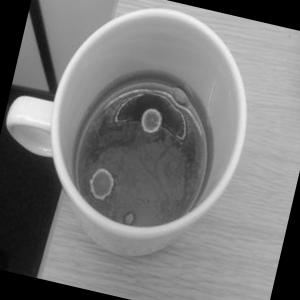coffee: (5, 0, 279, 279)
